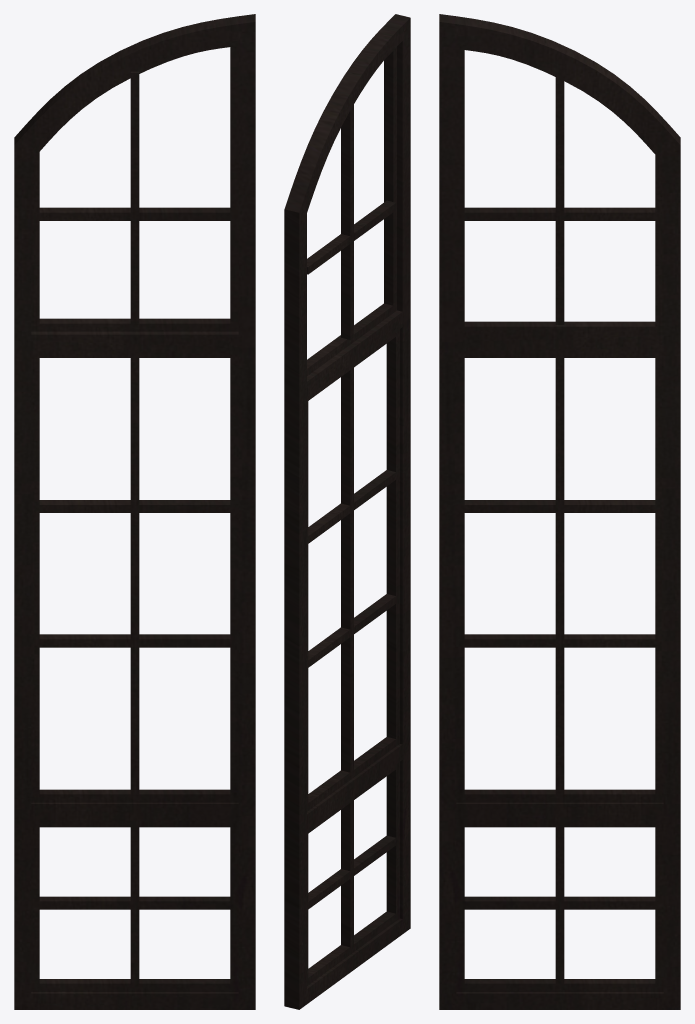
File: Window02A.FBX
3 views of the same model, side by side, from view 1: azimuth 90°, elevation 25°; view 2: azimuth 150°, elevation 25°; view 3: azimuth 270°, elevation 25° (orthographic). The views are drawn at different scales.
Visible parts, largest first — view 1: Window02A; view 2: Window02A; view 3: Window02A.
Part boxes in pixels (x1,y1,x2,y2): Window02A: (14,14,255,1009); Window02A: (284,14,410,1009); Window02A: (439,14,680,1009).
Bounding box in the file's own units: 6.4 × 375 × 82.96.
